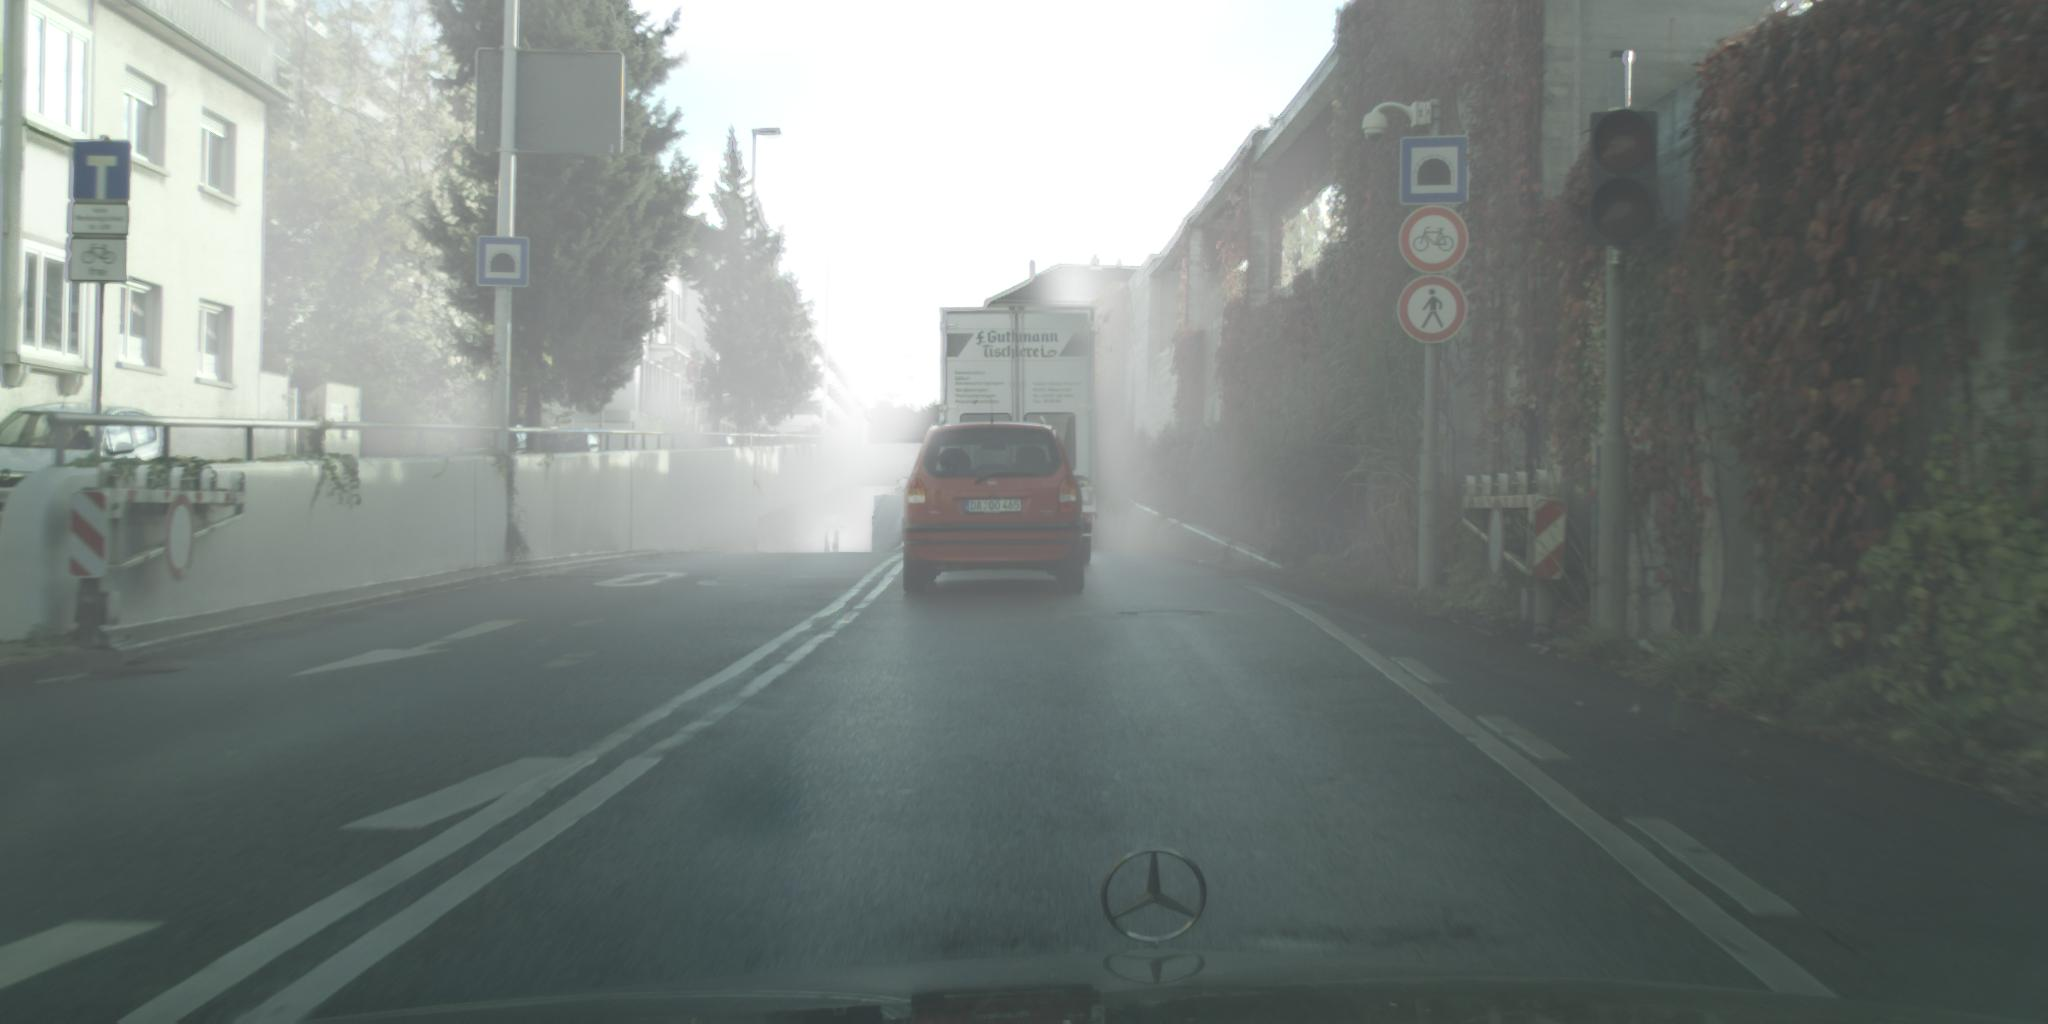car: (895, 424, 1091, 596), (1, 401, 172, 532)
truck: (939, 306, 1098, 564)
